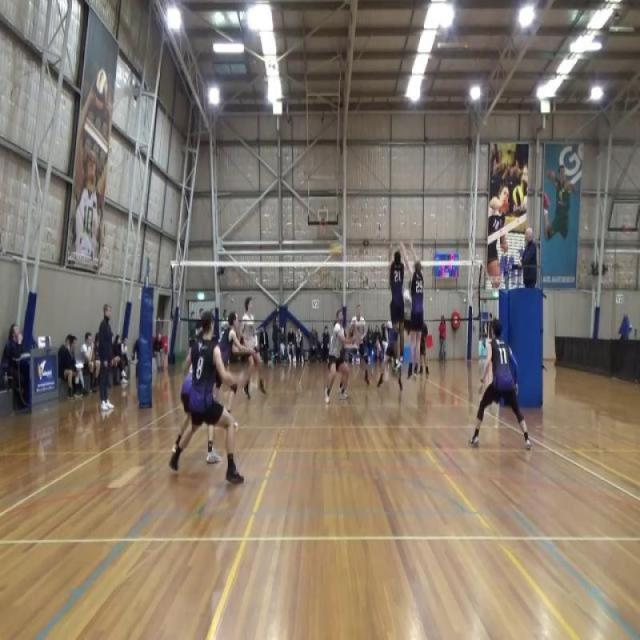volleyball: (95, 68, 108, 110), (512, 184, 525, 208), (328, 242, 343, 260)
